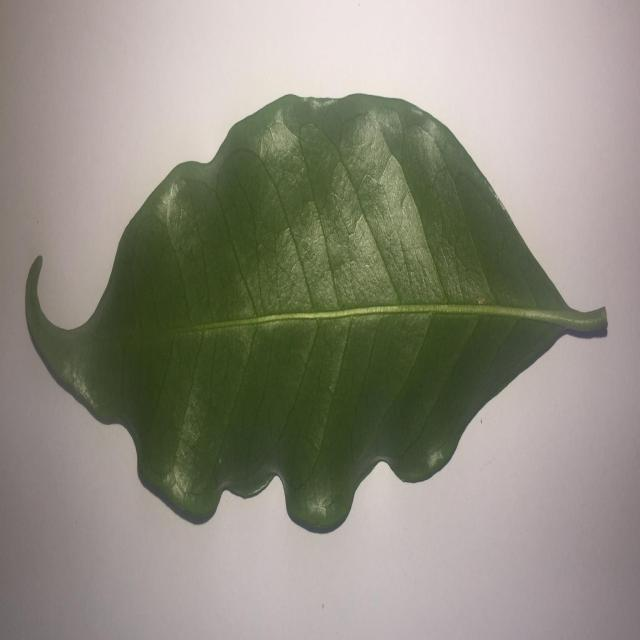nodisease: (26, 94, 608, 533)
